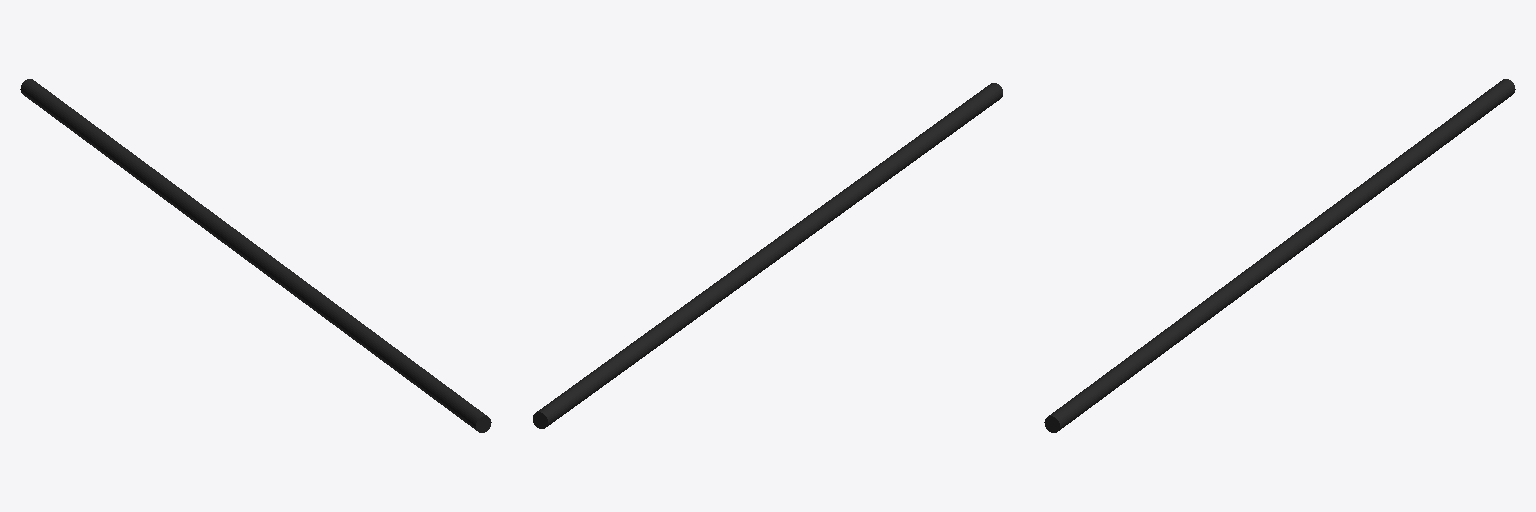
URDF robot description (ur5e):
<?xml version="1.0" encoding="utf-8"?>
<!-- =================================================================================== -->
<!-- |    This document was autogenerated by xacro from ur5e_robot.urdf.xacro          | -->
<!-- |    EDITING THIS FILE BY HAND IS NOT RECOMMENDED                                 | -->
<!-- =================================================================================== -->
<robot name="ur5e" xmlns:xacro="http://wiki.ros.org/xacro">
  <material name="LightGrey">
    <color rgba="0.8 0.8 0.8 1.0"/>
  </material>
  <material name="LightBlue">
    <color rgba="0.49 0.67 0.8 1.0"/>
  </material>
  <!--property name="shoulder_height" value="0.089159" /-->
  <!--property name="shoulder_offset" value="0.13585" /-->
  <!-- shoulder_offset - elbow_offset + wrist_1_length = 0.10915 -->
  <!--property name="upper_arm_length" value="0.42500" /-->
  <!--property name="elbow_offset" value="0.1197" /-->
  <!-- CAD measured -->
  <!--property name="forearm_length" value="0.39225" /-->
  <!--property name="wrist_1_length" value="0.093" /-->
  <!-- CAD measured -->
  <!--property name="wrist_2_length" value="0.09465" /-->
  <!-- In CAD this distance is 0.930, but in the spec it is 0.09465 -->
  <!--property name="wrist_3_length" value="0.0823" /-->
  <!-- manually measured -->
  <link name="world"/>

 <joint name="world_2_base" type="prismatic">
    <parent link="world"/>
    <child link="base_link"/>
    <origin xyz="0 0 0.00" rpy="0 0 0"/>
    <axis xyz = "0 1 0"/>
    <limit effort="1.0" lower="-10000" upper="10000" velocity="10000" />
    <dynamics damping = "0.0" friction="0.0" />
  </joint>



  <link name="base_link">
    <visual>
      <geometry>
        <mesh filename="visual/base.obj"/>
      </geometry>
      <material name="LightGrey"/>
    </visual>
    <!-- <collision>
      <geometry>
        <mesh filename="collision/base.stl"/>
      </geometry>
    </collision> -->
    <inertial>
      <mass value="4.0"/>
      <origin rpy="0 0 0" xyz="0.0 0.0 0.0"/>
      <inertia ixx="0.00443333156" ixy="0.0" ixz="0.0" iyy="0.00443333156" iyz="0.0" izz="0.0072"/>
    </inertial>
  </link>
  <joint name="shoulder_pan_joint" type="revolute">
    <parent link="base_link"/>
    <child link="shoulder_link"/>
    <origin rpy="0.0 0.0 0.0" xyz="0.0 0.0 0.163"/>
    <axis xyz="0 0 1"/>
    <limit effort="150.0" lower="-6.283185307179586" upper="6.283185307179586" velocity="3.14"/>
    <dynamics damping="0.0" friction="0.0"/>
  </joint>
  <link name="shoulder_link">
    <visual>
      <geometry>
        <mesh filename="visual/shoulder.obj"/>
      </geometry>
      <material name="LightBlue"/>
    </visual>
    <!-- <collision>
      <geometry>
        <mesh filename="collision/shoulder.stl"/>
      </geometry>
    </collision> -->
    <inertial>
      <mass value="3.7"/>
      <origin rpy="0 0 0" xyz="0.0 0.0 0.0"/>
      <inertia ixx="0.010267495893" ixy="0.0" ixz="0.0" iyy="0.010267495893" iyz="0.0" izz="0.00666"/>
    </inertial>
  </link>
  <joint name="shoulder_lift_joint" type="revolute">
    <parent link="shoulder_link"/>
    <child link="upper_arm_link"/>
    <origin rpy="0.0 1.5707963267948966 0.0" xyz="0.0 0.138 0.0"/>
    <axis xyz="0 1 0"/>
    <limit effort="150.0" lower="-6.283185307179586" upper="6.283185307179586" velocity="3.14"/>
    <dynamics damping="0.0" friction="0.0"/>
  </joint>
  <link name="upper_arm_link">
    <visual>
      <geometry>
        <mesh filename="visual/upperarm.obj"/>
      </geometry>
      <material name="LightGrey"/>
    </visual>
    <!-- <collision>
      <geometry>
        <mesh filename="collision/upperarm.stl"/>
      </geometry>
    </collision> -->
    <inertial>
      <mass value="8.393"/>
      <origin rpy="0 0 0" xyz="0.0 0.0 0.2125"/>
      <inertia ixx="0.1338857818623325" ixy="0.0" ixz="0.0" iyy="0.1338857818623325" iyz="0.0" izz="0.0151074"/>
    </inertial>
  </link>
  <joint name="elbow_joint" type="revolute">
    <parent link="upper_arm_link"/>
    <child link="forearm_link"/>
    <origin rpy="0.0 0.0 0.0" xyz="0.0 -0.131 0.425"/>
    <axis xyz="0 1 0"/>
    <limit effort="150.0" lower="-3.141592653589793" upper="3.141592653589793" velocity="3.14"/>
    <dynamics damping="0.0" friction="0.0"/>
  </joint>
  <link name="forearm_link">
    <visual>
      <geometry>
        <mesh filename="visual/forearm.obj"/>
      </geometry>
      <material name="LightBlue"/>
    </visual>
    <!-- <collision>
      <geometry>
        <mesh filename="collision/forearm.stl"/>
      </geometry>
    </collision> -->
    <inertial>
      <mass value="2.275"/>
      <origin rpy="0 0 0" xyz="0.0 0.0 0.196"/>
      <inertia ixx="0.031179620861480004" ixy="0.0" ixz="0.0" iyy="0.031179620861480004" iyz="0.0" izz="0.004095"/>
    </inertial>
  </link>
  <joint name="wrist_1_joint" type="revolute">
    <parent link="forearm_link"/>
    <child link="wrist_1_link"/>
    <origin rpy="0.0 1.5707963267948966 0.0" xyz="0.0 0.0 0.392"/>
    <axis xyz="0 1 0"/>
    <limit effort="28.0" lower="-6.283185307179586" upper="6.283185307179586" velocity="6.28"/>
    <dynamics damping="0.0" friction="0.0"/>
  </joint>
  <link name="wrist_1_link">
    <visual>
      <geometry>
        <mesh filename="visual/wrist1.obj"/>
      </geometry>
      <material name="LightGrey"/>
    </visual>
    <!-- <collision>
      <geometry>
        <mesh filename="collision/wrist1.stl"/>
      </geometry>
    </collision> -->
    <inertial>
      <mass value="1.219"/>
      <origin rpy="0 0 0" xyz="0.0 0.127 0.0"/>
      <inertia ixx="0.0025598989760400002" ixy="0.0" ixz="0.0" iyy="0.0025598989760400002" iyz="0.0" izz="0.0021942"/>
    </inertial>
  </link>
  <joint name="wrist_2_joint" type="revolute">
    <parent link="wrist_1_link"/>
    <child link="wrist_2_link"/>
    <origin rpy="0.0 0.0 0.0" xyz="0.0 0.127 0.0"/>
    <axis xyz="0 0 1"/>
    <limit effort="28.0" lower="-6.283185307179586" upper="6.283185307179586" velocity="6.28"/>
    <dynamics damping="0.0" friction="0.0"/>
  </joint>
  <link name="wrist_2_link">
    <visual>
      <geometry>
        <mesh filename="visual/wrist2.obj"/>
      </geometry>
      <material name="LightBlue"/>
    </visual>
    <!-- <collision>
      <geometry>
        <mesh filename="collision/wrist2.stl"/>
      </geometry>
    </collision> -->
    <inertial>
      <mass value="1.219"/>
      <origin rpy="0 0 0" xyz="0.0 0.0 0.1"/>
      <inertia ixx="0.0025598989760400002" ixy="0.0" ixz="0.0" iyy="0.0025598989760400002" iyz="0.0" izz="0.0021942"/>
    </inertial>
  </link>
  <joint name="wrist_3_joint" type="revolute">
    <parent link="wrist_2_link"/>
    <child link="wrist_3_link"/>
    <origin rpy="0.0 0.0 0.0" xyz="0.0 0.0 0.1"/>
    <axis xyz="0 1 0"/>
    <limit effort="28.0" lower="-6.283185307179586" upper="6.283185307179586" velocity="6.28"/>
    <dynamics damping="0.0" friction="0.0"/>
  </joint>
  <link name="wrist_3_link">
    <visual>
      <geometry>
        <mesh filename="visual/wrist3.obj"/>
      </geometry>
      <material name="LightGrey"/>
    </visual>
    <!-- <collision>
      <geometry>
        <mesh filename="collision/wrist3.stl"/>
      </geometry>
    </collision> -->
    <inertial>
      <mass value="0.1879"/>
      <origin rpy="1.5707963267948966 0 0" xyz="0.0 0.0771 0.0"/>
      <inertia ixx="9.890410052167731e-05" ixy="0.0" ixz="0.0" iyy="9.890410052167731e-05" iyz="0.0" izz="0.0001321171875"/>
    </inertial>
  </link>
  <joint name="ee_fixed_joint" type="fixed">
    <parent link="wrist_3_link"/>
    <child link="ee_link"/>
    <origin rpy="0.0 0.0 1.5707963267948966" xyz="0.0 0.1 0.0"/>
  </joint>
  <link name="ee_link">
    <!-- <collision>
      <geometry>
        <box size="0.01 0.01 0.01"/>
      </geometry>
      <origin rpy="0 0 0" xyz="-0.01 0 0"/>
    </collision> -->
    <inertial>
      <mass value="0.0"/>
      <origin rpy="0 0 0" xyz="0.0 0.0 0.0"/>
      <inertia ixx="0.0" ixy="0.0" ixz="0.0" iyy="0.0" iyz="0.0" izz="0.0"/>
    </inertial>
  </link>

  <!-- <joint name="ee_joint" type="prismatic">
    <parent link="ee_link"/>
    <child link="robotiq_arg2f_base_link"/>
    <origin xyz="0 0 0.00" rpy="0 1.5756 0"/>
    <axis xyz = "0 1 0"/>
    <limit effort="1.0" lower="-10000" upper="10000" velocity="10000" />
    <dynamics damping = "0.0" friction="0.0" />
  </joint> -->

 <joint name="ee_joint" type="fixed">
    <parent link="ee_link"/>
    <child link="robotiq_arg2f_base_link"/>
    <origin xyz="0 0 0.00" rpy="0 1.5756 0"/>
    <axis xyz = "0 1 0"/>
    <limit effort="1.0" lower="-10000" upper="10000" velocity="10000" />
    <dynamics damping = "0.0" friction="0.0" />
  </joint>


  <link name="robotiq_arg2f_base_link">
    <inertial>
      <origin rpy="0 0 0" xyz="8.625E-08 -4.6583E-06 0.03145"/>
      <mass value="0.22652"/>
      <inertia ixx="0.00020005" ixy="-4.2442E-10" ixz="-2.9069E-10" iyy="0.00017832" iyz="-3.4402E-08" izz="0.00013478"/>
    </inertial>
     <visual>
      <origin rpy="0 0 0" xyz="0 0 -0.02"/>
      <geometry>
        <mesh filename="suction/base.obj" scale="0.001 0.001 0.001"/>
      </geometry>
      <material name="Dark">
        <color rgba="0.1 0.1 0.1 1"/>
      </material>
    </visual> 
    <!-- <collision>
      <origin rpy="0 0 0" xyz="0 0 0"/>
      <geometry>
        <mesh filename="collision/robotiq_arg2f_base_link.stl"/>
      </geometry>
    </collision> -->
  </link>

  <link name="dummy_center_indicator_link_t">
    <visual>
      <!-- <geometry>
        <box size="0.025 0.08 0.002"/>
      </geometry>
      <geometry>
        <box size="0.025 0.125 0.002"/>
      </geometry> -->
      <origin rpy="0 0 0" xyz="0 0 -0.2"/>
      <geometry>
        <cylinder length="0.4" radius="0.004"/>
      </geometry>
      <material name="darkgrey">
        <color rgba="0.2 0.2 0.2 1"/>
      </material>
    </visual>
    <collision>
      <origin rpy="0 0 0" xyz="0 0 -0.2"/>
      <geometry>
        <cylinder length="0.4" radius="0.004"/>
      </geometry>
    </collision>    
    <inertial>
      <mass value="0.1" />
      <inertia ixx = "0" ixy = "0" ixz = "0"
               iyx = "0" iyy = "0" iyz = "0"
               izx = "0" izy = "0" izz = "0" />
    </inertial>
  </link>
  <joint name="dummy_center_fixed_joint_t" type="fixed">
    <parent link="robotiq_arg2f_base_link"/>
    <child link="dummy_center_indicator_link_t"/>
    <origin xyz="0 0 0.4"/>
  </joint>

   <!-- <link name="dummy_center_indicator_link">
    <visual>
      <origin rpy="0 0 0" xyz="0 0 -0.005"/>
      <geometry>
        <box size="0.015 0.015 0.01"/>
      </geometry>
      <material name="Dark4">
        <color rgba="0.4 0.4 0.4 1"/>
      </material>
    </visual>
    <collision>
      <origin rpy="0 0 0" xyz="0 0 -0.005"/>
      <geometry>
        <box size="0.015 0.015 0.01"/>
      </geometry>
    </collision>    
    <inertial>
      <mass value="0.1" />
      <inertia ixx = "0" ixy = "0" ixz = "0"
               iyx = "0" iyy = "0" iyz = "0"
               izx = "0" izy = "0" izz = "0" />
    </inertial>
  </link> -->
  <joint name="dummy_center_fixed_joint" type="fixed">
    <parent link="dummy_center_indicator_link_t"/>
    <child link="headLink"/>
    <origin xyz="0 0 0.001"/>
  </joint> 

  <link name="headLink">
    <contact>
      <lateral_friction value="1.0"/>
      <rolling_friction value="0.0001"/>
      <inertia_scaling value="3.0"/>
    </contact>
    <inertial>
      <origin rpy="0 0 0" xyz="0 0 0"/>
       <mass value=".1"/>
       <inertia ixx="1" ixy="0" ixz="0" iyy="1" iyz="0" izz="1"/>
    </inertial>
    <visual>
      <origin rpy="0 0 0" xyz="0 0 0"/>
      <geometry>
        <mesh filename="suction/head.obj" scale="0.001 0.001 0.001"/>
      </geometry>
      <material name="darkgrey">
        <color rgba="0.2 0.2 0.2 1"/>
      </material>
    </visual>
    <collision>
      <origin rpy="0 0 0" xyz="0 0 0"/>
      <geometry>
        <mesh filename="suction/head.obj" scale="0.001 0.001 0.001"/>
      </geometry>
    </collision>
  </link>

  <joint name="tipJoint" type="fixed">
    <parent link="headLink"/>
    <child link="tipLink"/>
    <origin rpy="0.0 0.0 0.0" xyz="0.0 0.0 0.029"/>
    <axis xyz="0 0 1"/>
    <limit effort="150.0" lower="-6.28318530718" upper="6.28318530718" velocity="3.15"/>
    <dynamics damping="10.0" friction="0.0"/>
  </joint>

  <link name="tipLink">
    <contact>
      <lateral_friction value="1.0"/>
      <rolling_friction value="0.0001"/>
      <inertia_scaling value="3.0"/>
    </contact>
    <inertial>
      <origin rpy="0 0 0" xyz="0 0 0"/>
       <mass value=".1"/>
       <inertia ixx="1" ixy="0" ixz="0" iyy="1" iyz="0" izz="1"/>
    </inertial>
    <visual>
      <origin rpy="0 0 0" xyz="0 0 0"/>
      <geometry>
        <mesh filename="suction/tip.obj" scale="0.001 0.001 0.001"/>
      </geometry>
      <material name="blue">
        <color rgba="0.18039216, 0.50588235, 0.77254902 1"/>
      </material>
    </visual>
    <collision>
      <origin rpy="0 0 0" xyz="0 0 0"/>
      <geometry>
        <mesh filename="suction/tip.obj" scale="0.001 0.001 0.001"/>
      </geometry>
      <!-- <geometry>
        <cylinder length="0.028" radius="0.001"/>
      </geometry> -->
    </collision>
  </link>

  <joint name="fixFrame" type="fixed">
    <parent link="tipLink"/>
    <child link="dummyTip"/>
    <origin rpy="0.0 0.0 0.0" xyz="0.0 0.0 0.015"/>
    <axis xyz="0 0 1"/>
    <limit effort="150.0" lower="-6.28318530718" upper="6.28318530718" velocity="3.15"/>
    <dynamics damping="10.0" friction="0.0"/>
  </joint>

  <link name="dummyTip">
      <collision>
      <origin rpy="0 0 0" xyz="0 0 0"/>
       <geometry>
        <cylinder length="0.001" radius="0.01"/>
      </geometry> 
    </collision>
  </link>

</robot>

--- Render facts (derived) ---
Views: 3 orthographic renders of the robot side by side, from view 1: azimuth 30°, elevation 25°; view 2: azimuth 150°, elevation 25°; view 3: azimuth 330°, elevation 25°.
Model ur5e with 14 links and 13 joints (6 revolute, 1 prismatic, 6 fixed), rooted at world, posed every joint at zero.
Links seen in each view (by area): view 1: dummy_center_indicator_link_t; view 2: dummy_center_indicator_link_t; view 3: dummy_center_indicator_link_t.
Boxes of the visible links, left/top/right/bottom form: dummy_center_indicator_link_t: left=20, top=79, right=491, bottom=432; dummy_center_indicator_link_t: left=533, top=83, right=1002, bottom=428; dummy_center_indicator_link_t: left=1044, top=79, right=1515, bottom=432.
Bounding box of the posed robot: 0.008 × 0.4 × 0.0099 m (x, y, z).
Meshes: 10 distinct files referenced, 0 mesh visuals loaded (none loaded); not drawn: 10 (reference not matched to a file when rendering).